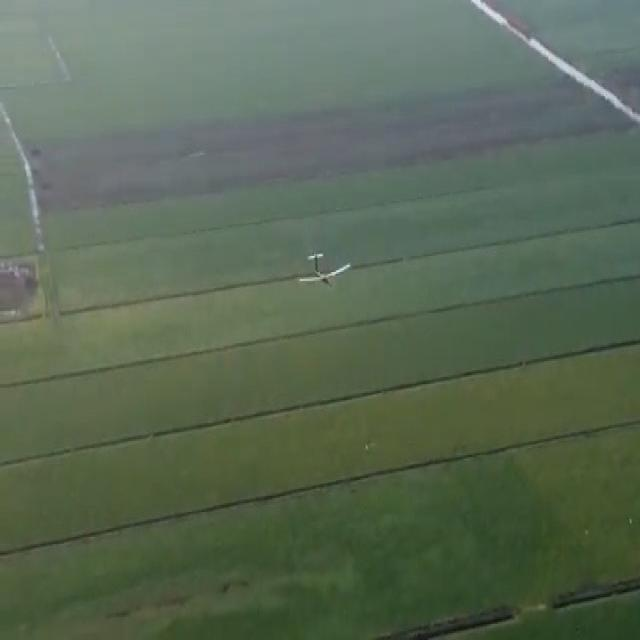drones: (294, 238, 358, 304)
